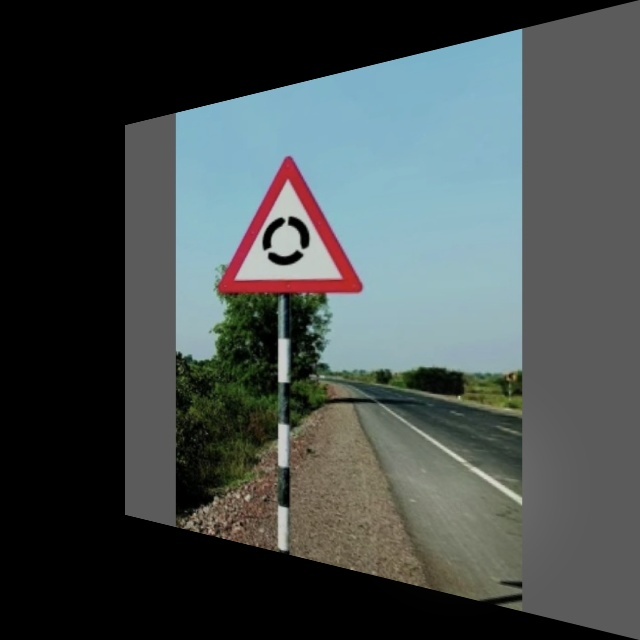Round_About: (214, 139, 373, 299)
